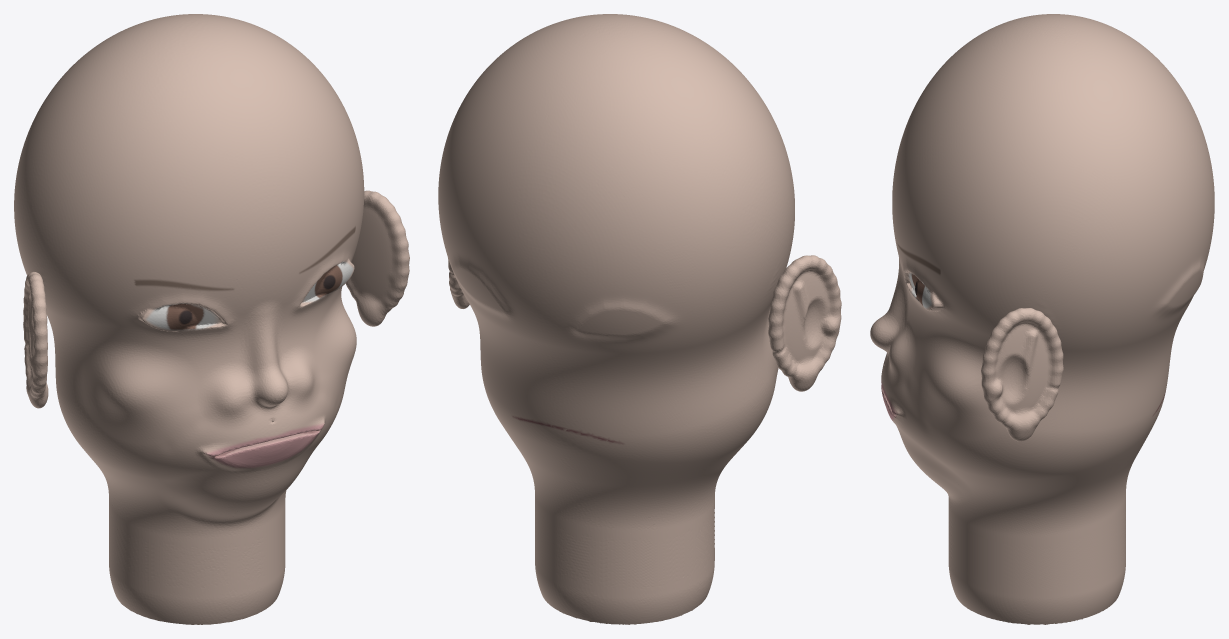
Rendered from karma_face_stage1_R_neutral_EXPERIMENT.glb.
The picture shows the model from 3 angles, left to right: view 1: azimuth 30°, elevation 25°; view 2: azimuth 150°, elevation 25°; view 3: azimuth 270°, elevation 25°; orthographic projection.
Parts seen in each view (by area): view 1: head; view 2: head; view 3: head.
Boxes of the visible parts, x1=… form: head: x1=14, y1=14, x2=409, y2=624; head: x1=438, y1=14, x2=841, y2=624; head: x1=870, y1=14, x2=1214, y2=624.
Bounding box in the file's own units: 2.7 × 3.83 × 2.14.
